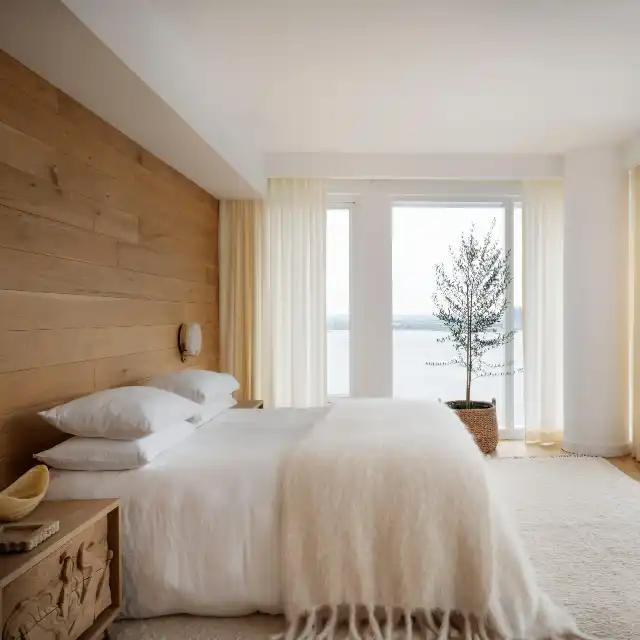bed: (121, 399, 511, 614)
pillow: (37, 389, 206, 472), (145, 371, 243, 420)
table: (0, 494, 131, 640)
window: (324, 195, 521, 424)
